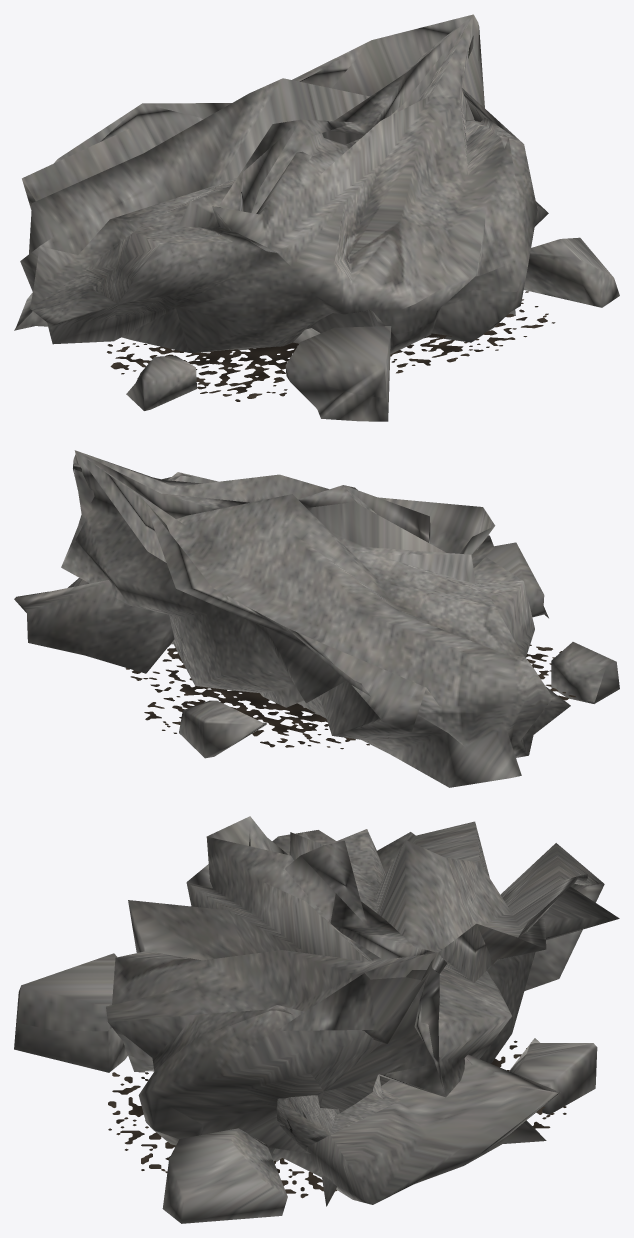
The model's file is boulder_01.glb.
3 renders of one model, top to bottom at view 1: azimuth 30°, elevation 25°; view 2: azimuth 150°, elevation 25°; view 3: azimuth 270°, elevation 25°, orthographic. The views are drawn at different scales.
Visible parts, largest first — view 1: boulder_01; view 2: boulder_01; view 3: boulder_01.
Boxes of the visible parts, box(x1,y1,x2,y2) form: boulder_01: box(14, 14, 619, 421); boulder_01: box(14, 450, 619, 787); boulder_01: box(14, 816, 619, 1223).
Bounding box in the file's own units: 2.1 × 0.8182 × 1.8.
Materials: 2 (2 with a texture image).
